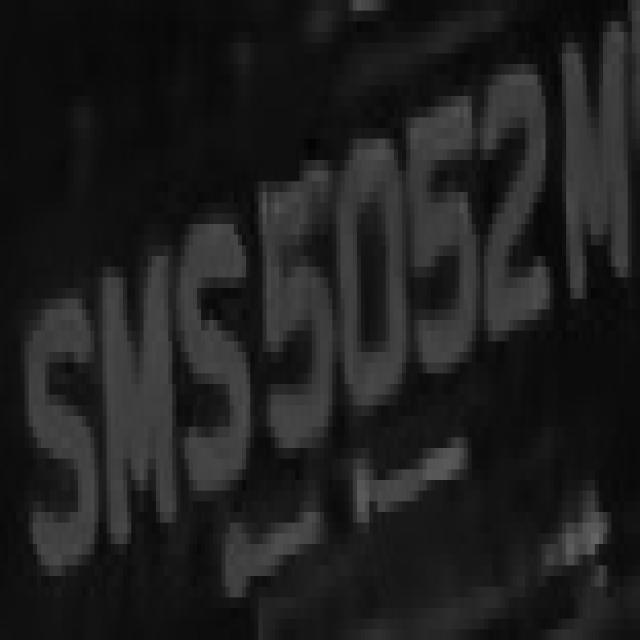0: (320, 117, 410, 427)
2: (472, 43, 562, 352)
5: (246, 128, 328, 480), (402, 85, 480, 395)
M: (86, 213, 185, 544), (549, 0, 640, 298)
S: (17, 245, 98, 576), (172, 203, 250, 469)
